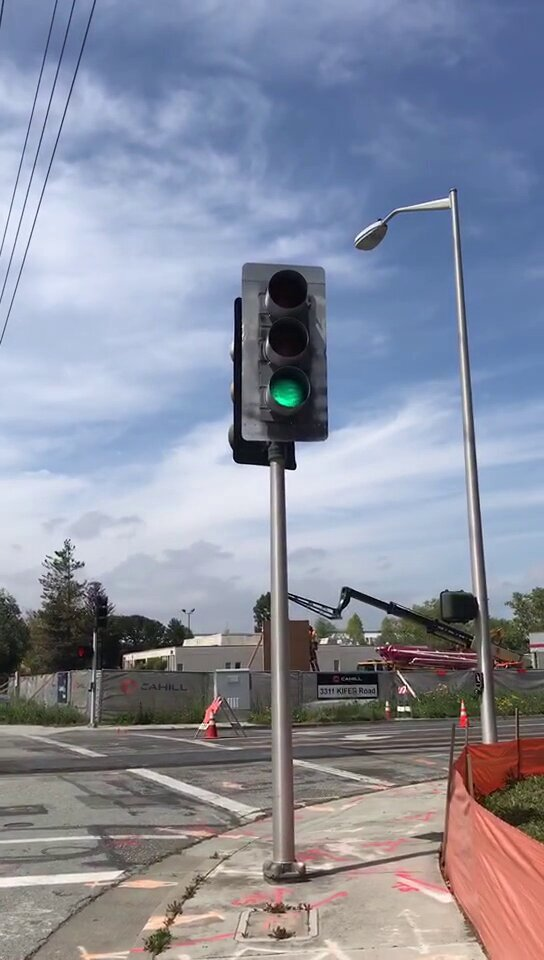green_light: (244, 266, 325, 437)
